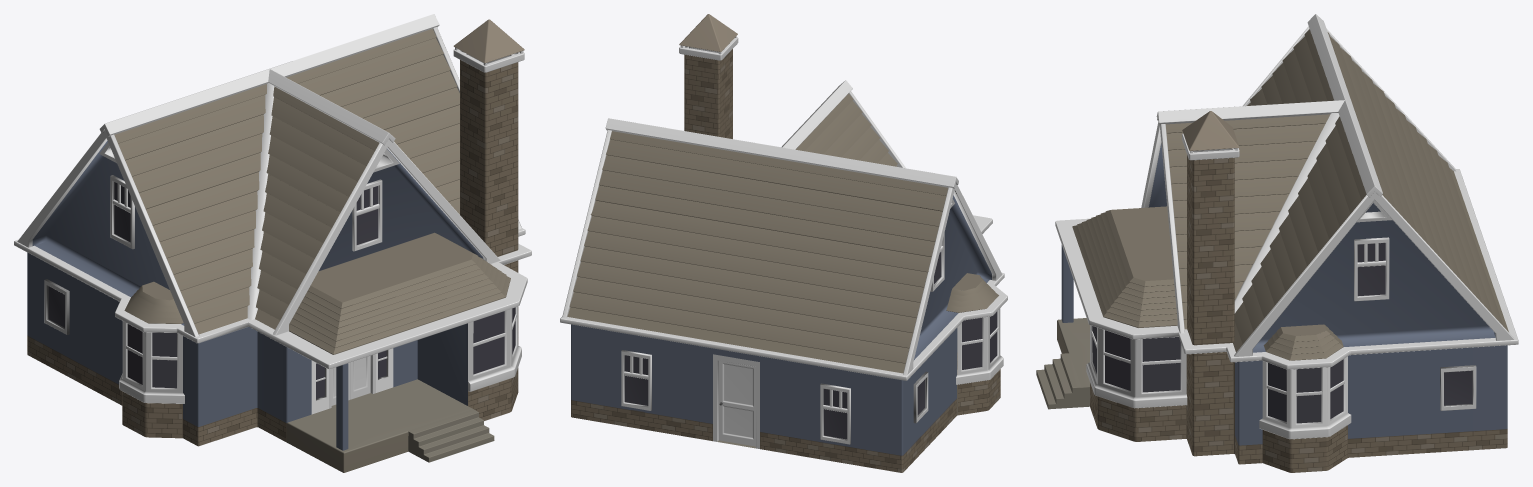
File: house.glb
3 views of the same model, side by side, from view 1: azimuth 30°, elevation 25°; view 2: azimuth 150°, elevation 25°; view 3: azimuth 270°, elevation 25° (orthographic). The views are drawn at different scales.
Parts seen in each view (by area): view 1: node_id49; view 2: node_id49; view 3: node_id49.
Boxes of the visible parts, left/top/right/bottom form: node_id49: left=14, top=14, right=531, bottom=472; node_id49: left=560, top=14, right=1007, bottom=472; node_id49: left=1036, top=14, right=1518, bottom=472.
Bounding box in the file's own units: 0.5167 × 0.4107 × 0.5353.
1 material, 1 textured.
